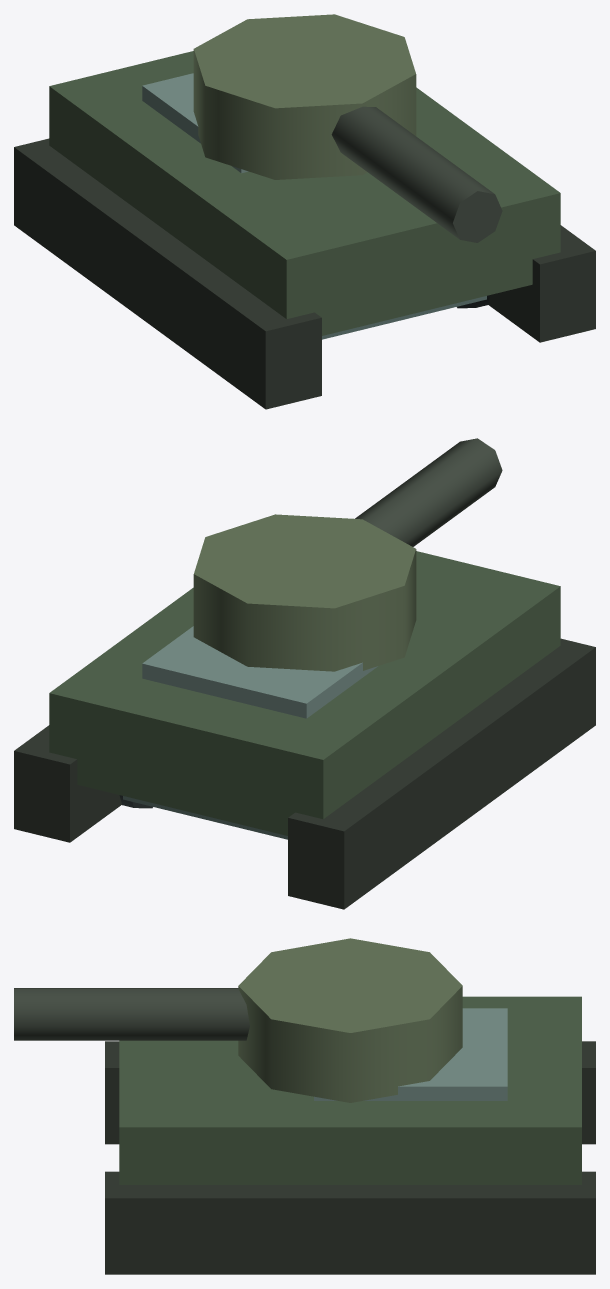
File: tank_team2.glb
3 renders of one model, top to bottom at view 1: azimuth 30°, elevation 25°; view 2: azimuth 150°, elevation 25°; view 3: azimuth 270°, elevation 25°, orthographic. The views are drawn at different scales.
Parts seen in each view (by area): view 1: part_14, part_15, part_17, part_18, part_16, part_1, part_0; view 2: part_14, part_15, part_17, part_1, part_18, part_16, part_0; view 3: part_14, part_16, part_17, part_18, part_1, part_15.
Part boxes in pixels (x1,y1,x2,y2): part_14: (49,51,560,335); part_15: (14,138,321,409); part_17: (193,14,416,179); part_18: (331,106,502,242); part_16: (488,225,595,342); part_1: (142,73,248,173); part_0: (322,296,486,339); part_14: (49,551,560,835); part_15: (288,638,595,909); part_17: (193,514,416,671); part_1: (142,626,377,718); part_18: (355,438,502,546); part_16: (14,725,121,842); part_0: (123,796,287,839); part_14: (119,996,581,1184); part_16: (105,1171,595,1274); part_17: (238,938,462,1102); part_18: (14,988,249,1040); part_1: (314,1008,507,1100); part_15: (105,1041,595,1144).
Size of the model in its own units: 2.65 by 1.76 by 4.15.
